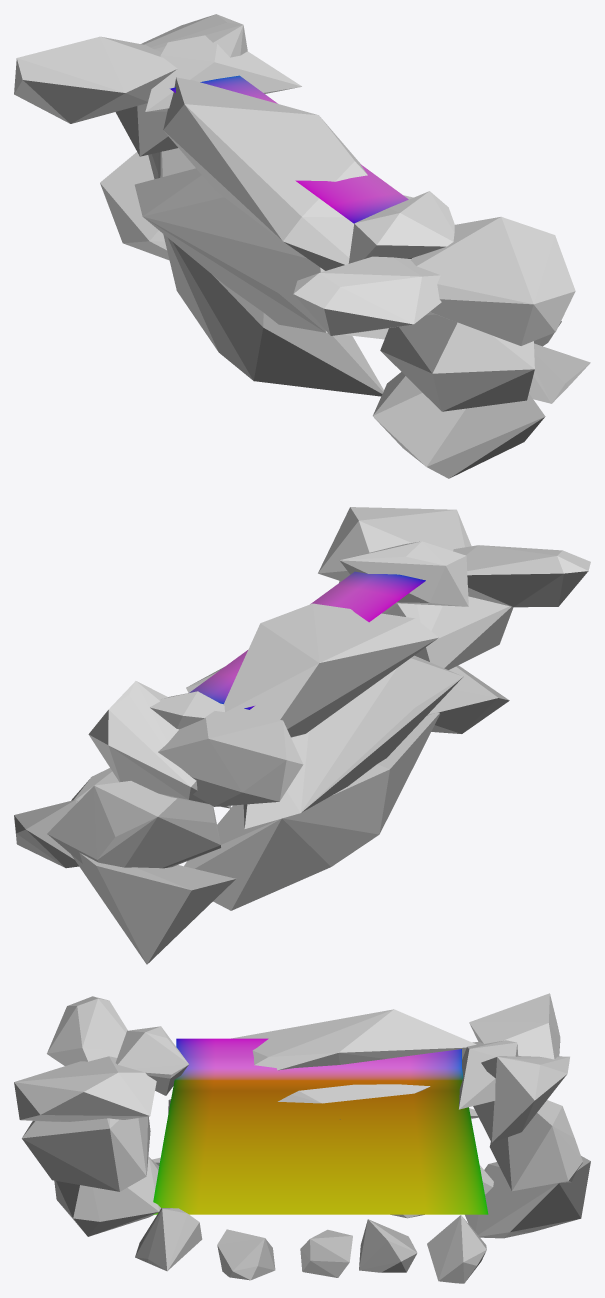
File: cascade.glb
3 renders of one model, top to bottom at view 1: azimuth 30°, elevation 25°; view 2: azimuth 150°, elevation 25°; view 3: azimuth 270°, elevation 25°, orthographic. The views are drawn at different scales.
Visible parts, largest first — view 1: Falaise, Chute; view 2: Falaise, Chute; view 3: Falaise, Chute.
Boxes of the visible parts, x1,y1,x2,y2 form: Falaise: (14, 14, 590, 478); Chute: (170, 75, 408, 223); Falaise: (14, 507, 590, 964); Chute: (189, 571, 425, 709); Falaise: (14, 993, 590, 1283); Chute: (153, 1038, 488, 1214).
Size of the model in its own units: 3.45 by 2.17 by 6.08.
